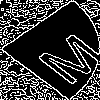M: (25, 25, 100, 87)
